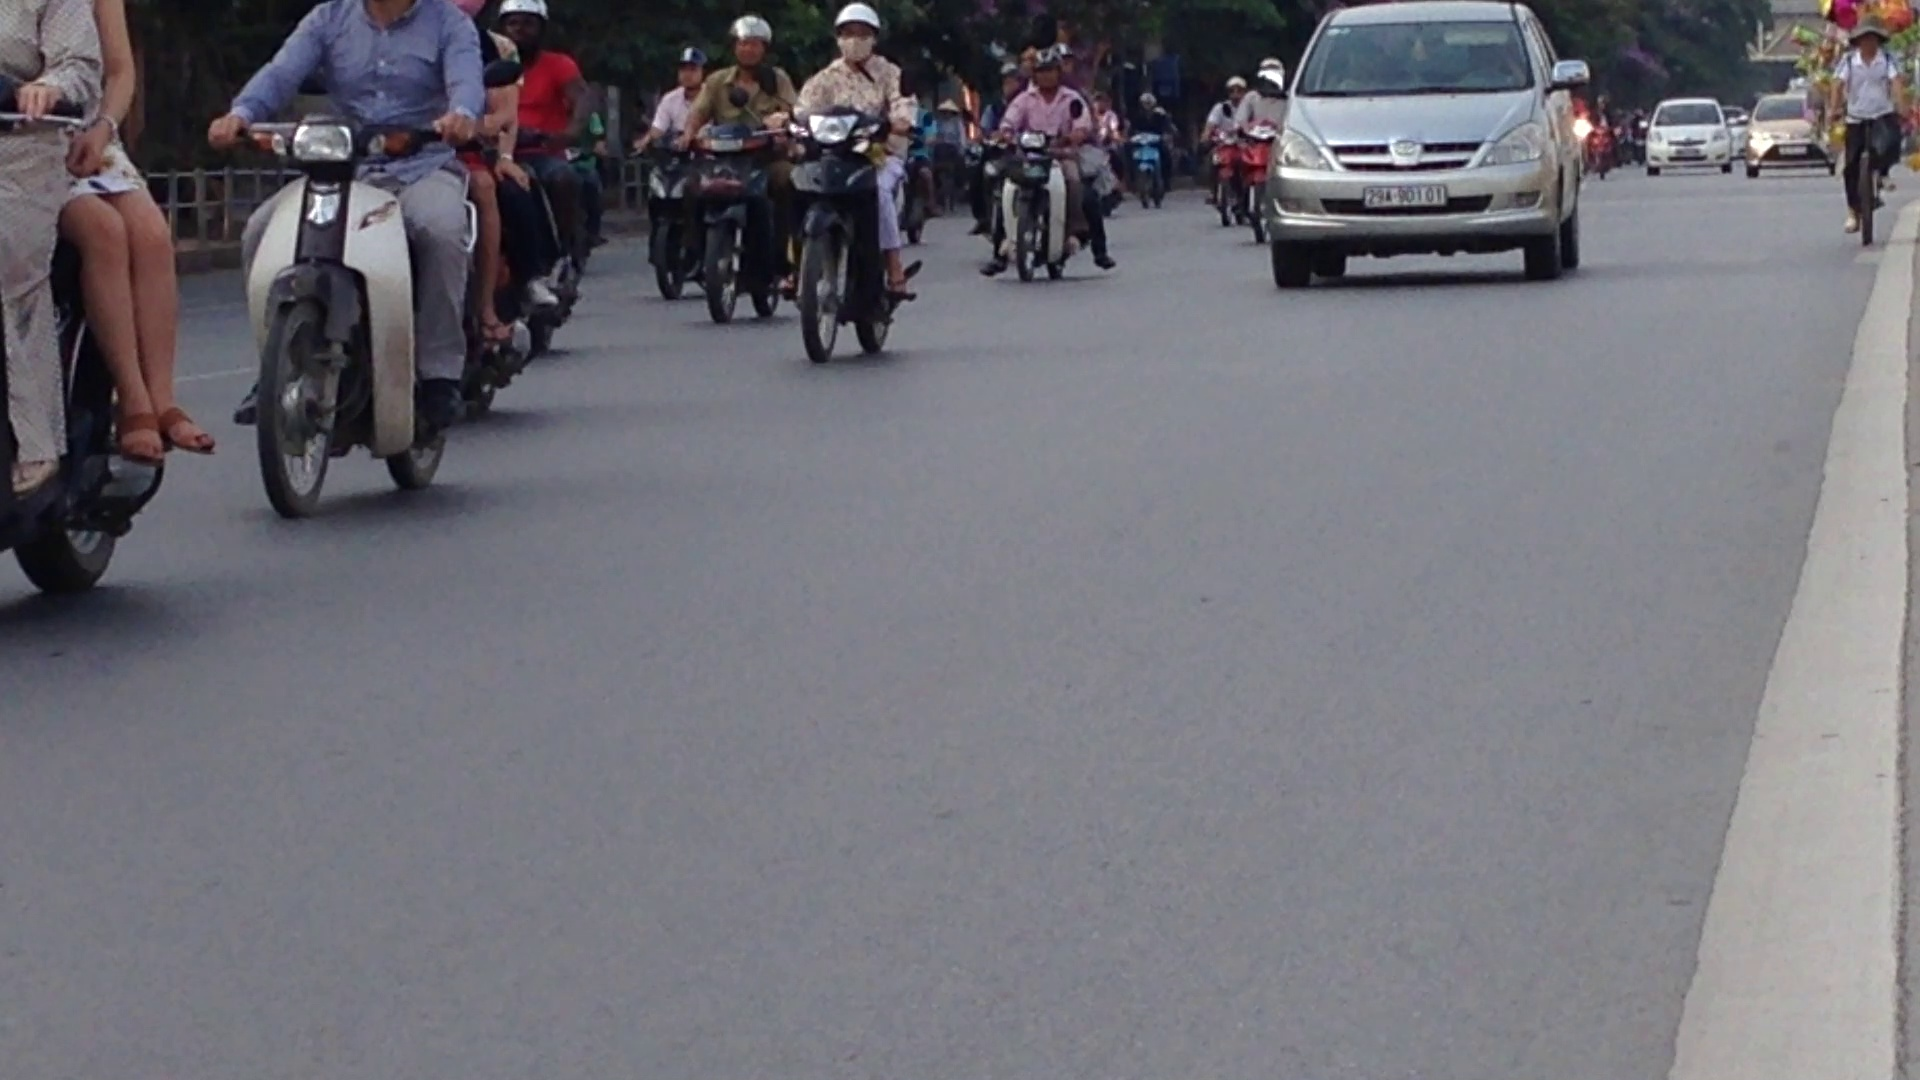vehicle-plate: (1358, 180, 1451, 211)
